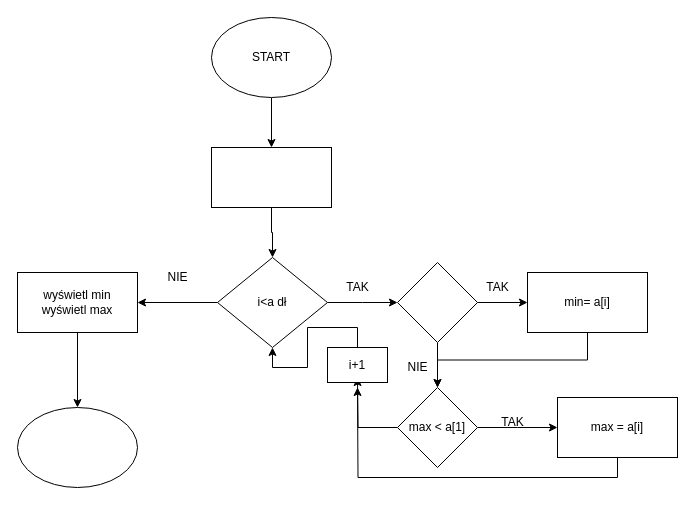
The diagram is 695 pixels wide and 505 high, and some of its shapes have lost their labels. Each missing label, with the box of its shape:
a = [2,3,4,6] i = 1 min = a[0] max = a[0]: (210, 146, 332, 208)
min >a[i]: (396, 262, 478, 342)
STOP: (16, 406, 138, 488)
